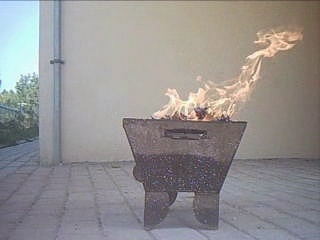fire: (154, 22, 307, 124)
